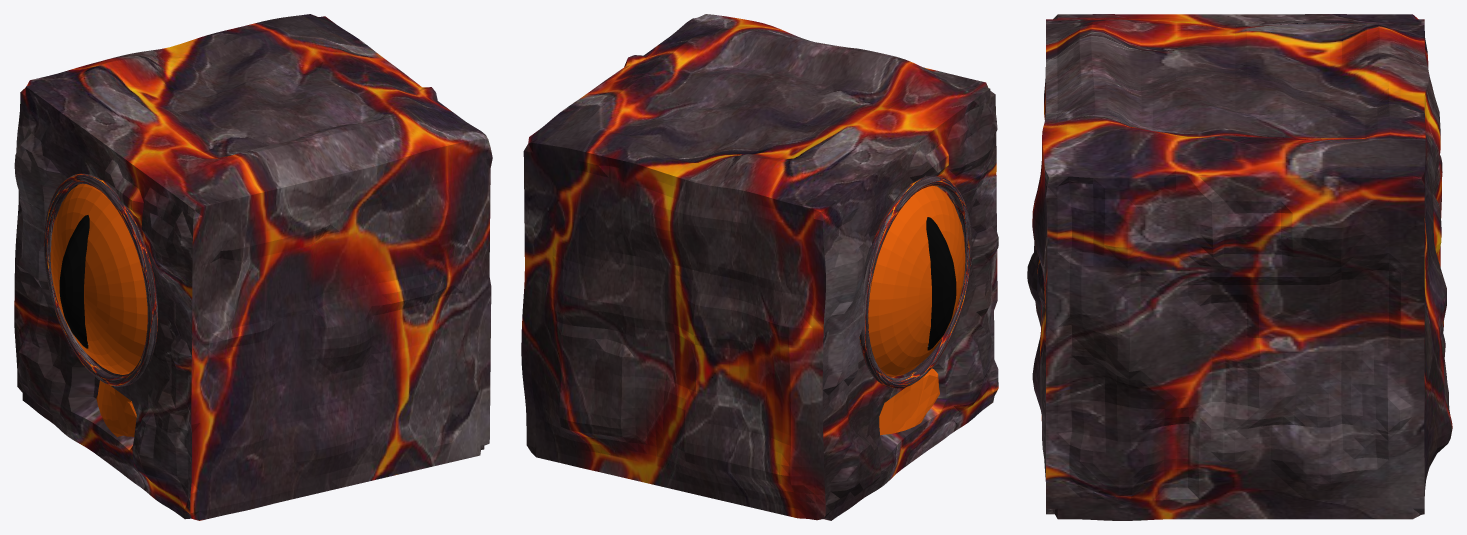
Rendered from Fire_cube.dae.
3 renders of one model, left to right at view 1: azimuth 30°, elevation 25°; view 2: azimuth 150°, elevation 25°; view 3: azimuth 270°, elevation 25°, orthographic. The views are drawn at different scales.
Parts seen in each view (by area): view 1: Sphere; view 2: Sphere; view 3: Sphere.
Boxes of the visible parts, x1=… form: Sphere: x1=14, y1=14, x2=492, y2=520; Sphere: x1=521, y1=14, x2=998, y2=520; Sphere: x1=1027, y1=14, x2=1452, y2=520.
Size of the model in its own units: 2.44 by 2.25 by 2.24.
